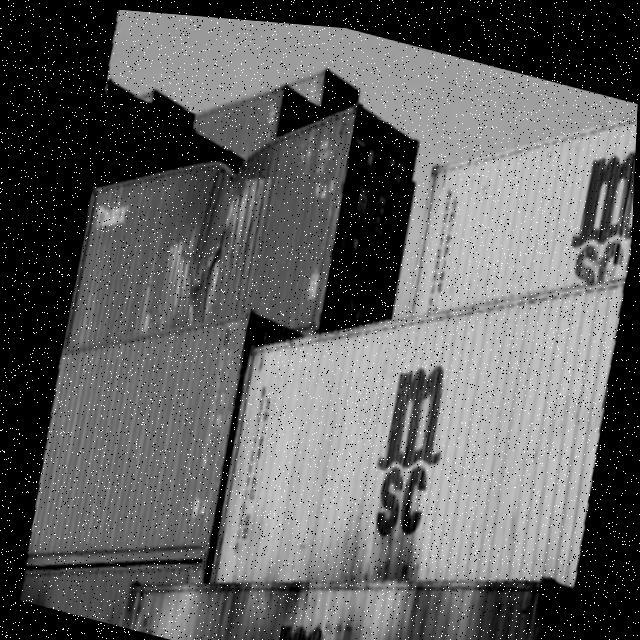dent: (160, 147, 276, 300)
